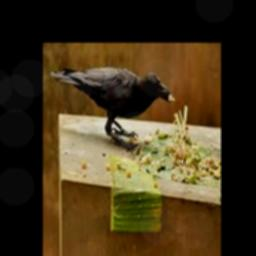Crow: (50, 67, 172, 142)
